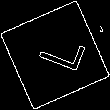L_W: (26, 31, 84, 79)
